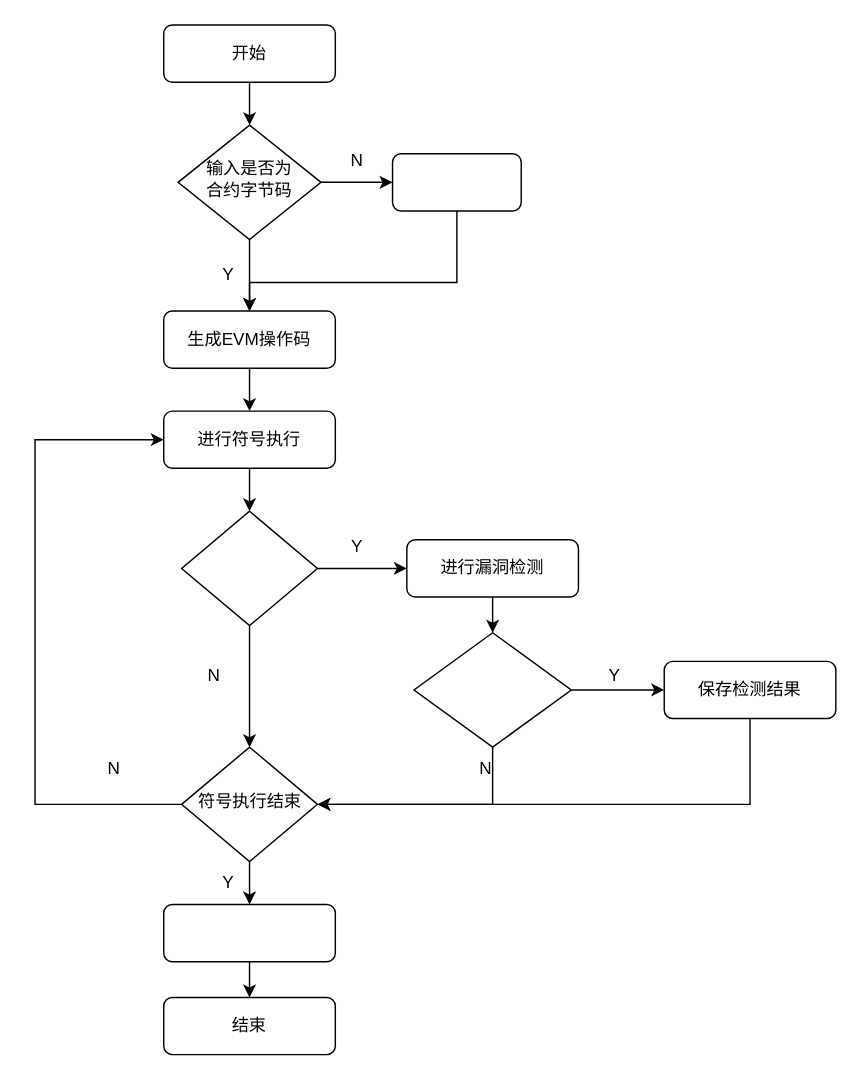
Image size: 861x1091. Some labels were removed from this diagram. The shapes that lost their labels are listed below. From the top down, each one's box as (x1, y1, x2, y2) in pixels, then its label:
(391, 152, 521, 211): 调用solc编译器生成字节码
(180, 510, 317, 626): 操作码可能 导致漏洞
(413, 631, 571, 747): 存在漏洞
(162, 903, 335, 962): 生成检测结果
